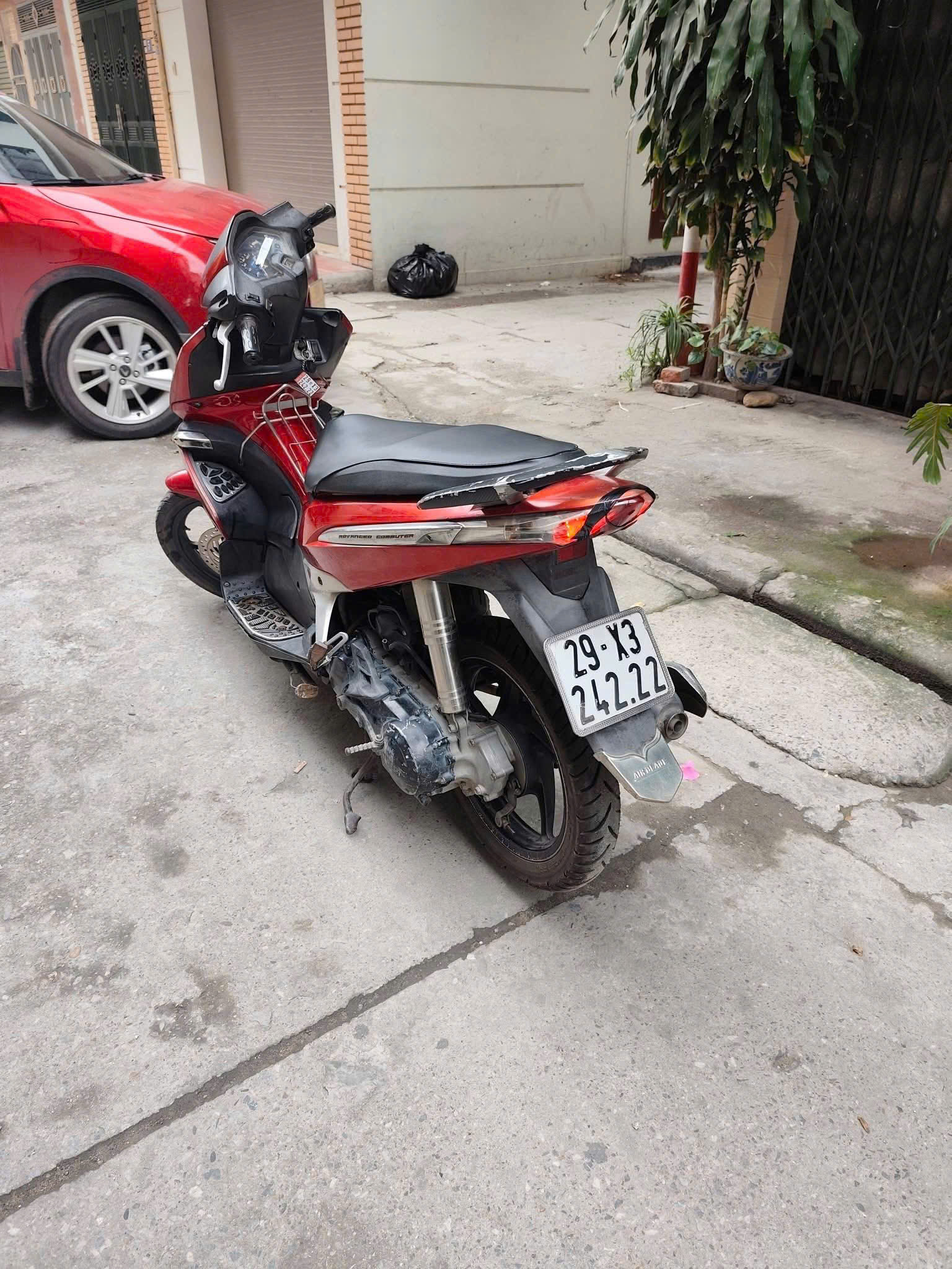Bien-so: (541, 609, 682, 735)
